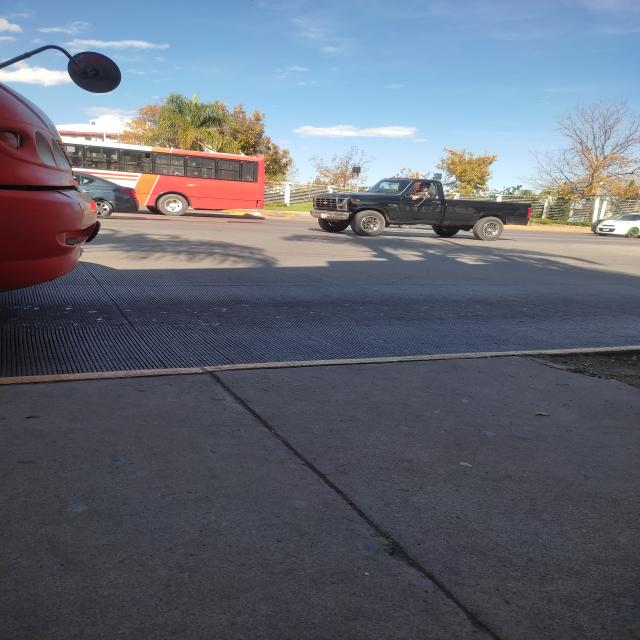Auto: (308, 161, 544, 247), (582, 201, 640, 246)
Autobus: (2, 13, 119, 308), (57, 134, 280, 220)
